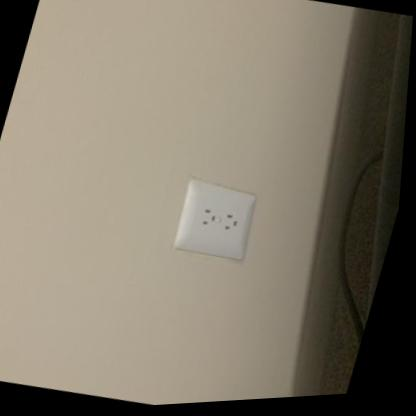OUTLET: (167, 172, 263, 266)
